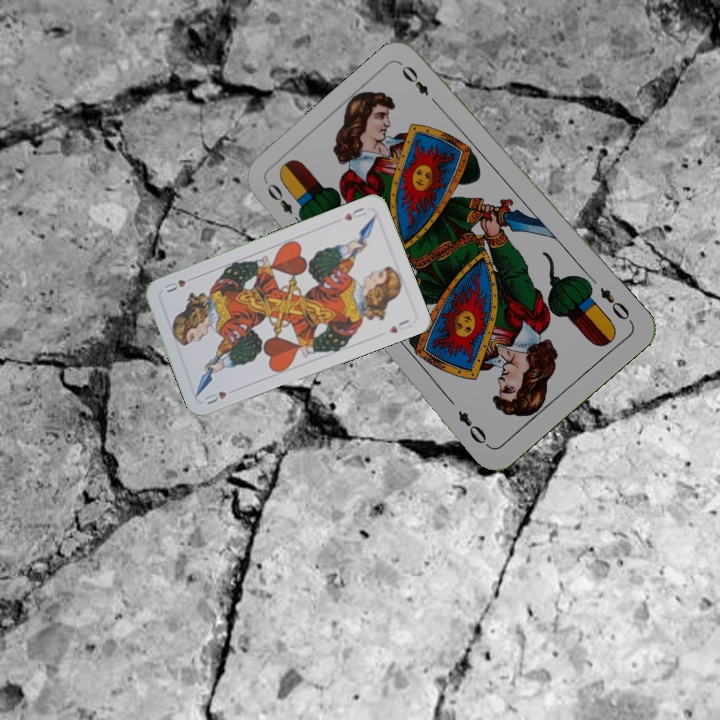EO: (262, 179, 308, 228), (595, 283, 635, 326)
HU: (200, 387, 230, 407), (340, 203, 369, 223)
